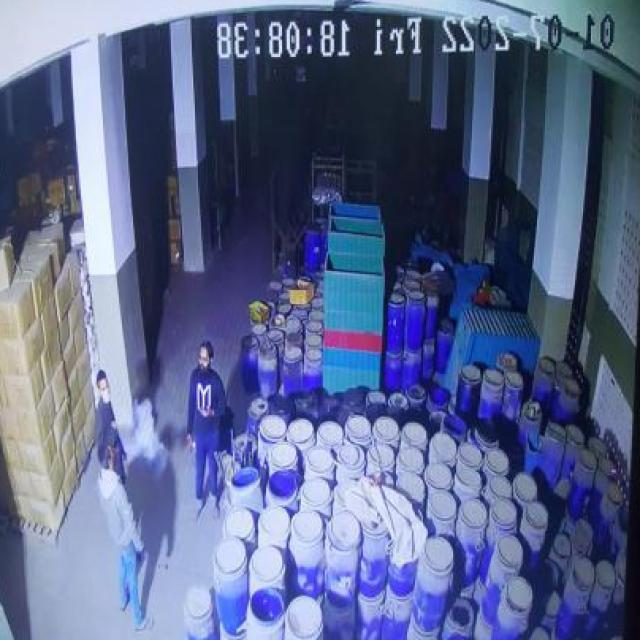fire: (126, 390, 166, 470)
